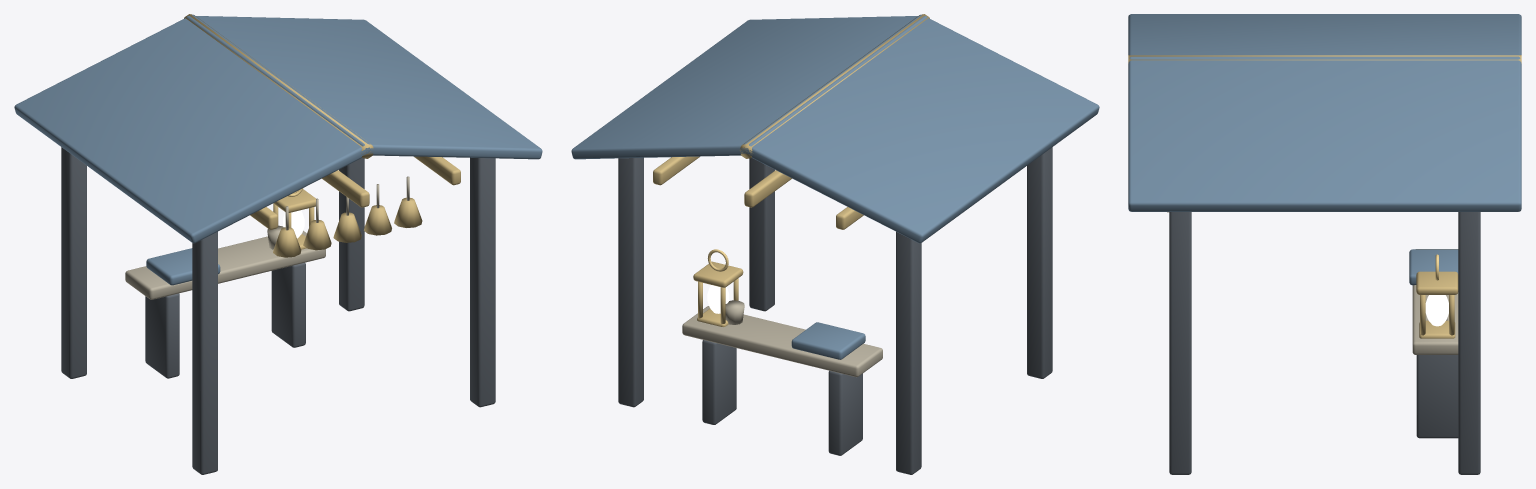
The model's file is discovery_shepherd.glb.
3 views of the same model, side by side, from view 1: azimuth 30°, elevation 25°; view 2: azimuth 150°, elevation 25°; view 3: azimuth 270°, elevation 25° (orthographic). The views are drawn at different scales.
Parts seen in each view (by area): view 1: discovery_shepherd_part_0, discovery_shepherd_part_5, discovery_shepherd_part_2, discovery_shepherd_part_6, discovery_shepherd_part_3, discovery_shepherd_part_4; view 2: discovery_shepherd_part_0; view 3: discovery_shepherd_part_0, discovery_shepherd_part_1.
Part boxes in pixels (<box>): discovery_shepherd_part_0: <box>14,14,542,474</box>; discovery_shepherd_part_5: <box>364,184,391,235</box>; discovery_shepherd_part_2: <box>273,206,301,257</box>; discovery_shepherd_part_6: <box>394,176,422,227</box>; discovery_shepherd_part_3: <box>303,198,331,250</box>; discovery_shepherd_part_4: <box>333,197,361,242</box>; discovery_shepherd_part_0: <box>571,14,1099,474</box>; discovery_shepherd_part_0: <box>1128,14,1521,474</box>; discovery_shepherd_part_1: <box>1425,295,1448,326</box>.
Bounding box in the file's own units: 5.58 × 4.76 × 4.9.
